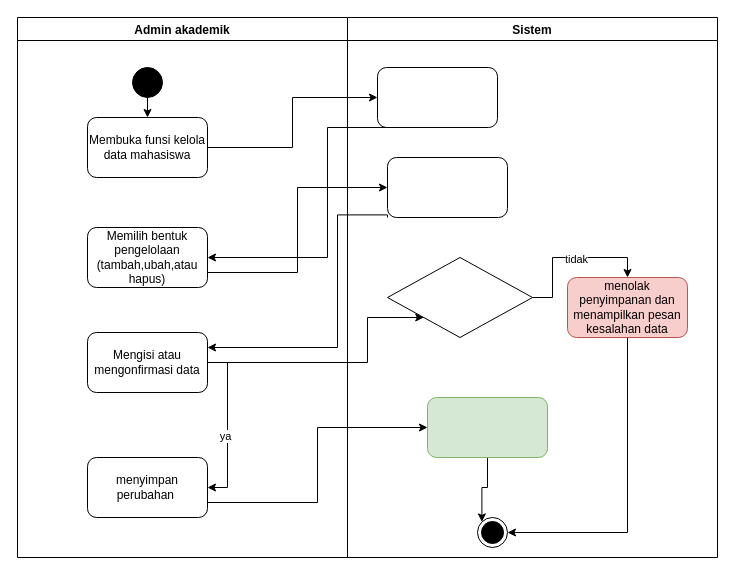
Some shapes in this 735 by 575 pixel diagram are drawn without their labels. Each missing label, with the box of its shape:
Data lengkap dan sah?: (386, 256, 532, 338)
menampilkan daftar data mahasiswa: (376, 66, 498, 128)
menampilkan formulir sesuai bentuk pengelolaan yang dipilih: (386, 156, 508, 218)
Sistem menyimpan perubahan dan menampilkan konfirmasi: (426, 396, 548, 458)
